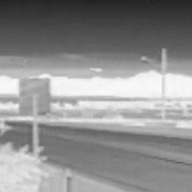Target: (90, 65, 104, 73)
